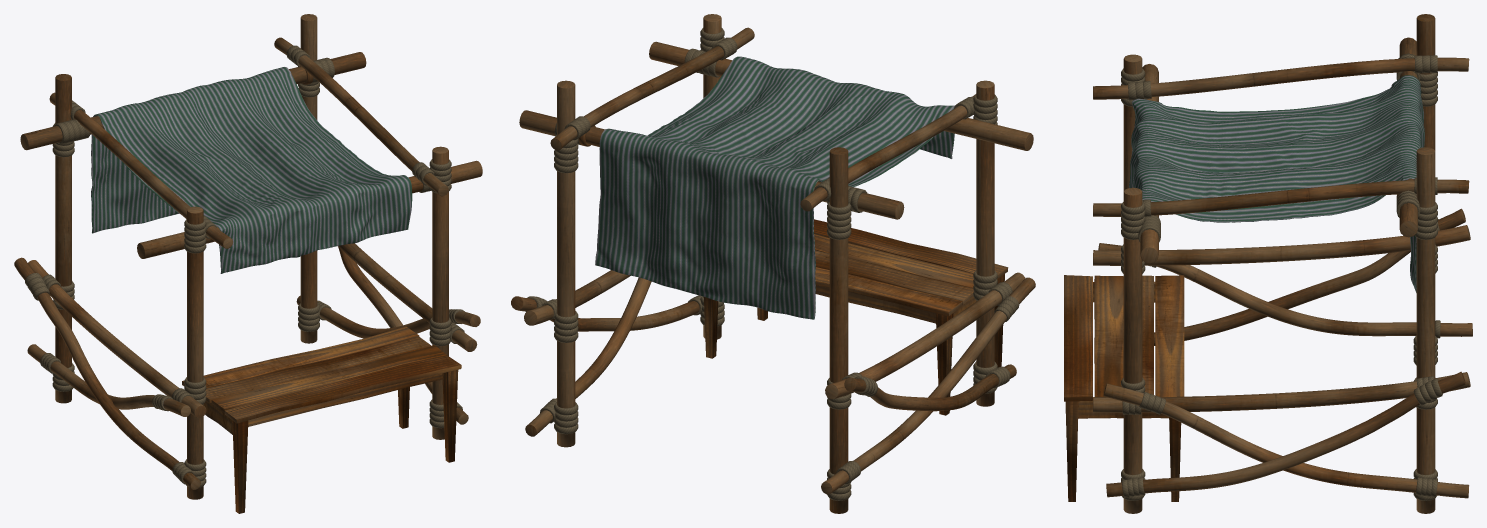
Rendered from Stall.fbx.
3 views of the same model, side by side, from view 1: azimuth 30°, elevation 25°; view 2: azimuth 150°, elevation 25°; view 3: azimuth 270°, elevation 25° (orthographic). The views are drawn at different scales.
Visible parts, largest first — view 1: Stall; view 2: Stall; view 3: Stall.
Boxes of the visible parts, bbox=[...] form: Stall: bbox=[14, 14, 482, 513]; Stall: bbox=[511, 14, 1035, 513]; Stall: bbox=[1064, 14, 1472, 513].
Size of the model in its own units: 2.66 by 2.5 by 2.42.
1 material, 1 textured.
